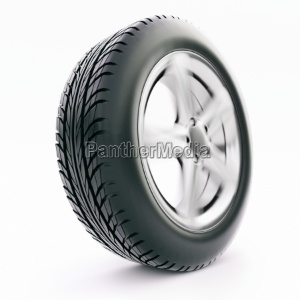tire: (54, 13, 257, 277)
